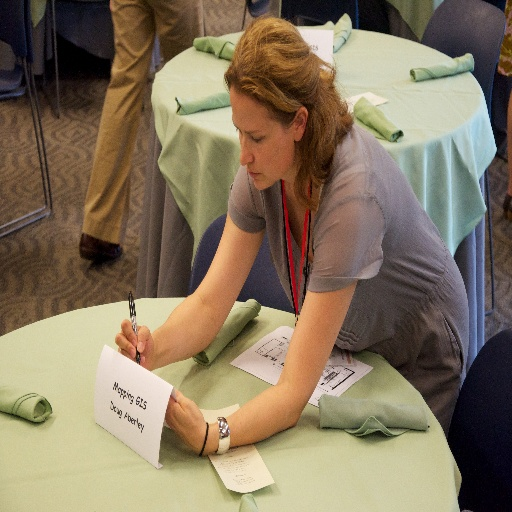hand: (163, 385, 208, 455), (110, 320, 155, 375)
